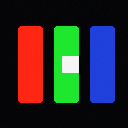1 square: (62, 56, 78, 72)
